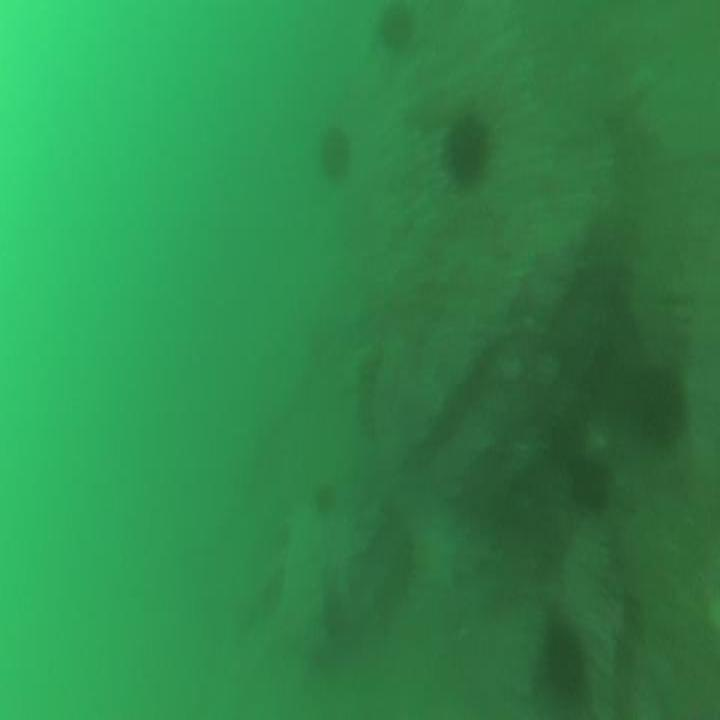echinus: (534, 606, 591, 720), (430, 98, 494, 190), (636, 356, 686, 450), (564, 448, 615, 523), (316, 117, 356, 187), (372, 5, 419, 61)
holothurian: (349, 334, 384, 444)
